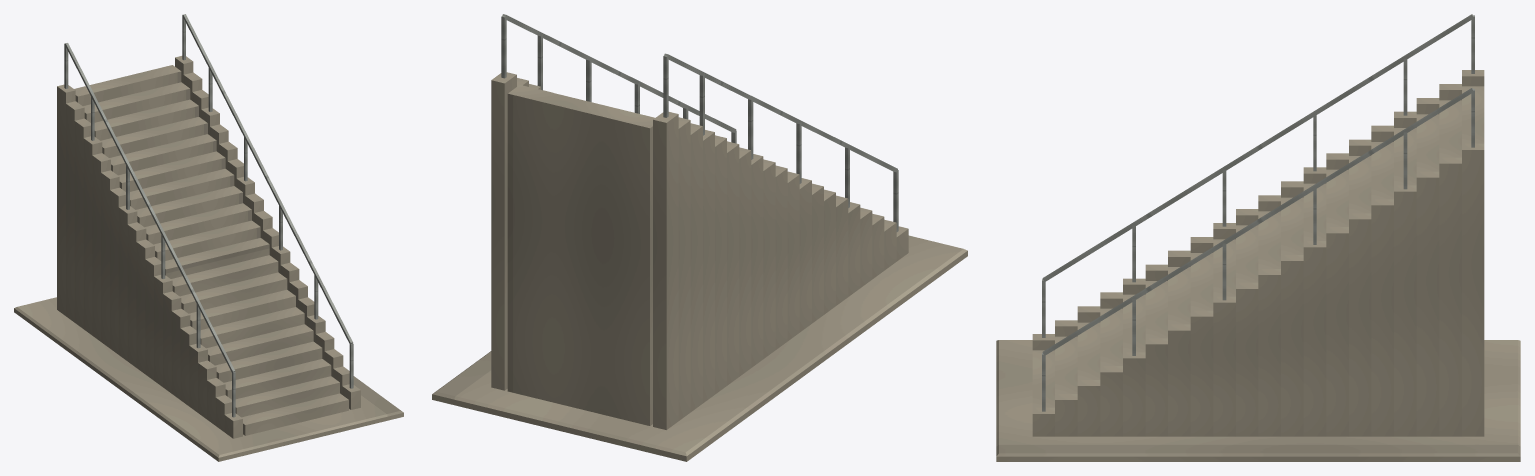
3 renders of one model, left to right at view 1: azimuth 30°, elevation 25°; view 2: azimuth 150°, elevation 25°; view 3: azimuth 270°, elevation 25°, orthographic. The views are drawn at different scales.
Visible parts, largest first — view 1: jamestown; view 2: jamestown; view 3: jamestown.
Part boxes in pixels (box(x1,y1,x2,y2)): jamestown: box(14, 14, 403, 461); jamestown: box(432, 14, 967, 461); jamestown: box(996, 14, 1520, 461).
Bounding box in the file's own units: 3.4 × 4.82 × 6.5.
1 material, 1 textured.
